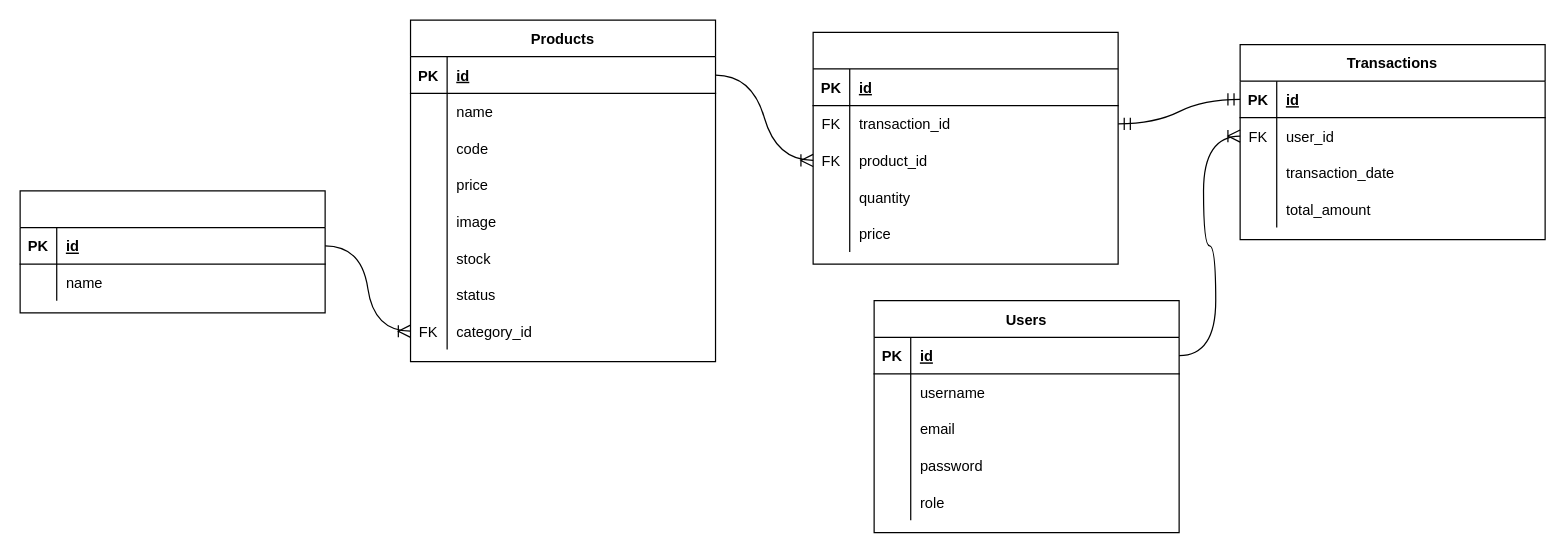
Some shapes in this 1565 by 553 pixel diagram are drawn without their labels. The box of each missing label's shape, as (x1, y1, x2, y2) in pixels:
Categories: (19, 190, 325, 313)
Transaction_details: (812, 31, 1118, 264)
